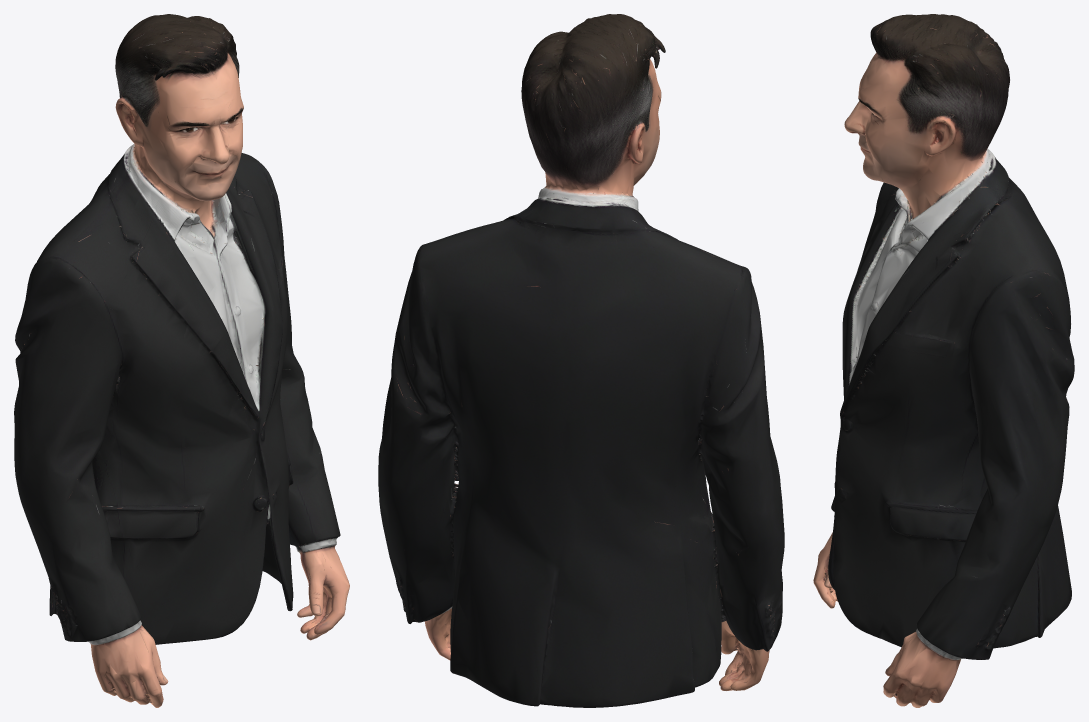
File: fouquet.glb
3 renders of one model, left to right at view 1: azimuth 30°, elevation 25°; view 2: azimuth 150°, elevation 25°; view 3: azimuth 270°, elevation 25°, orthographic. The views are drawn at different scales.
Visible parts, largest first — view 1: Mesh_0; view 2: Mesh_0; view 3: Mesh_0.
Boxes of the visible parts, x1=… form: Mesh_0: x1=14, y1=14, x2=349, y2=707; Mesh_0: x1=378, y1=14, x2=784, y2=707; Mesh_0: x1=813, y1=14, x2=1074, y2=707.
Bounding box in the file's own units: 1.03 × 1.91 × 0.7208.
Materials: 1 (1 with a texture image).
